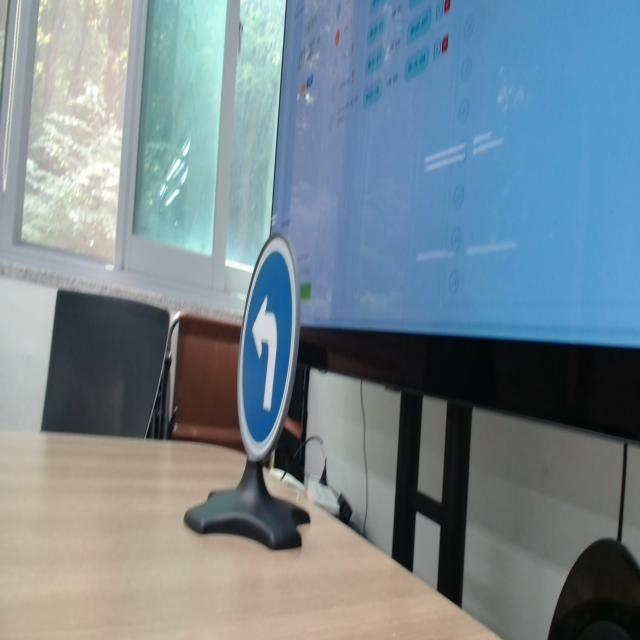left_direction: (213, 207, 314, 474)
